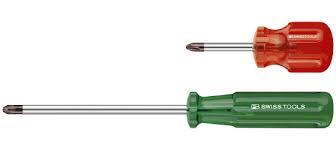screwdriver: (1, 90, 333, 127), (184, 19, 333, 73)
